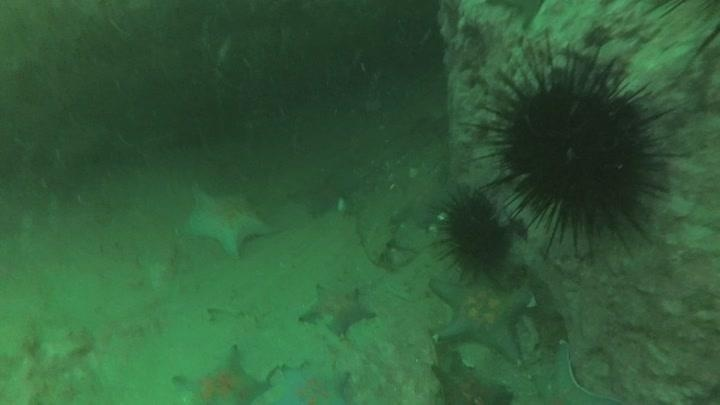echinus: (472, 43, 682, 256), (433, 186, 516, 280)
starfish: (427, 268, 537, 363), (180, 184, 276, 259), (523, 340, 626, 403), (170, 343, 272, 404), (296, 279, 379, 341), (428, 354, 515, 405), (256, 361, 354, 404)
